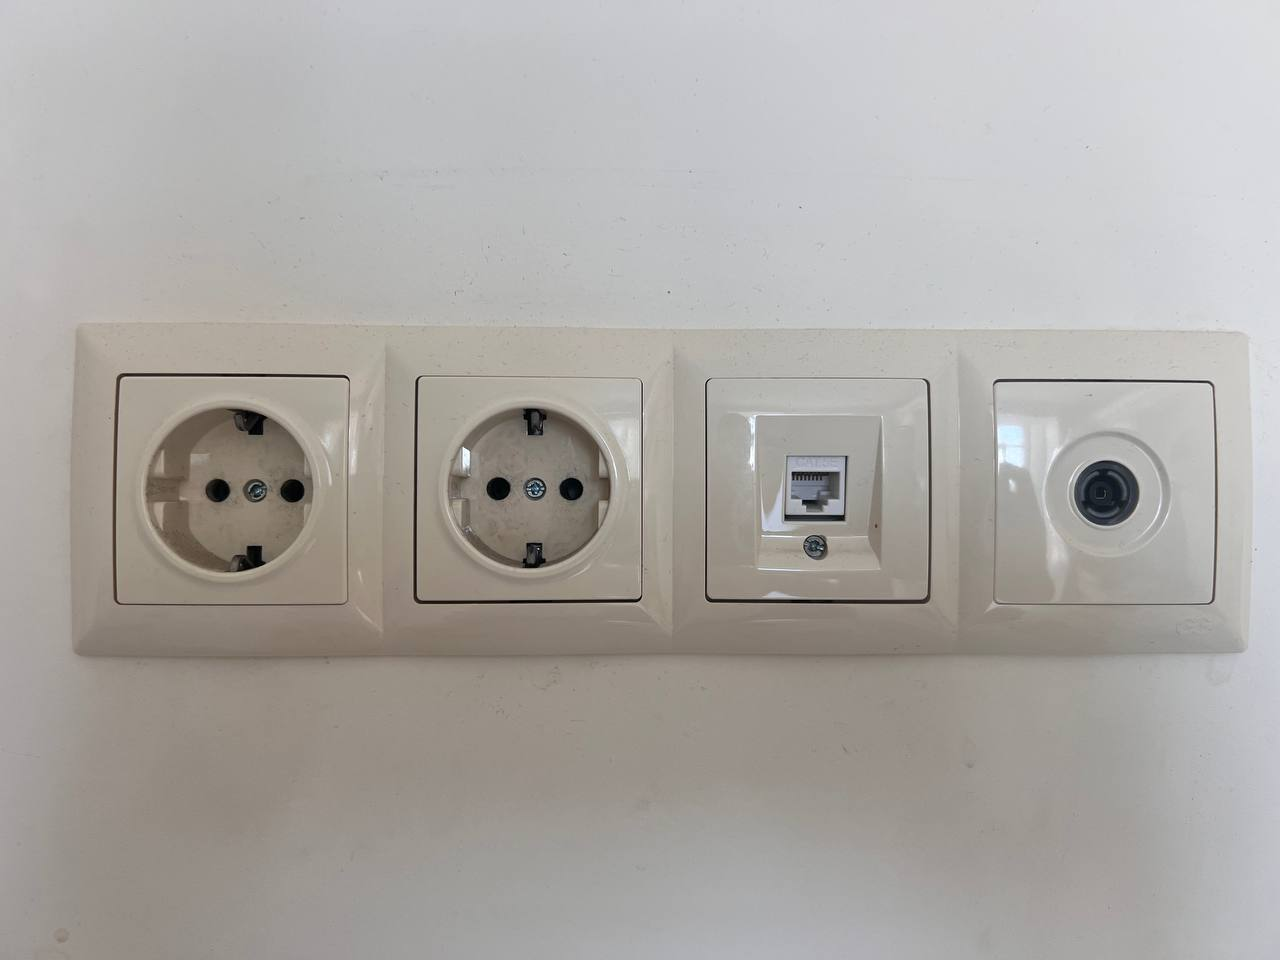Network Outlet: (677, 334, 958, 656)
Power Outlet: (61, 324, 384, 650), (385, 331, 679, 655)
TV Socket: (959, 333, 1254, 656)
